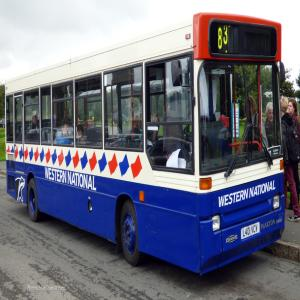Vehicle-registration-plate: (242, 222, 261, 241)
